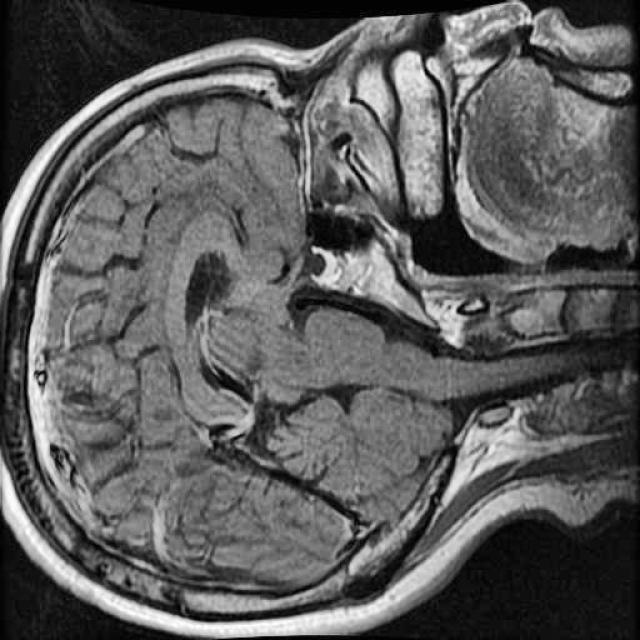Tumor: (299, 240, 350, 298)
